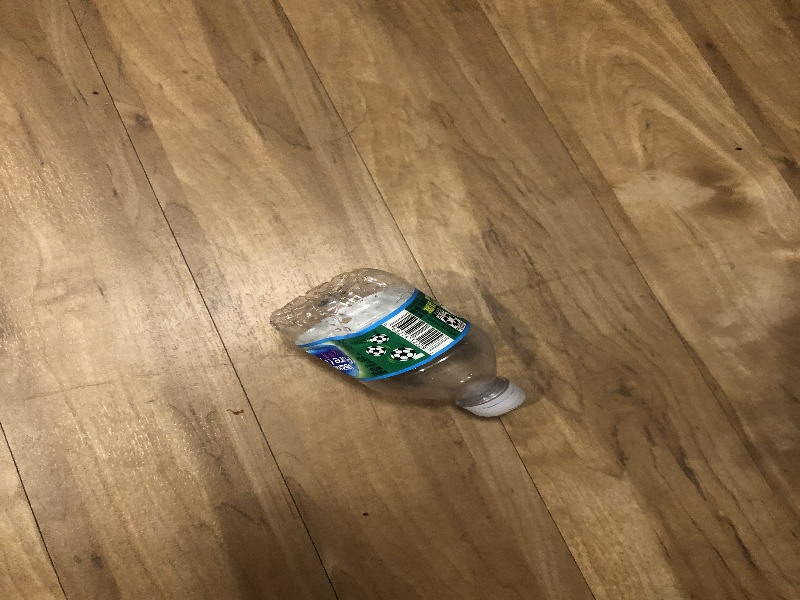plastic: (268, 266, 537, 422)
